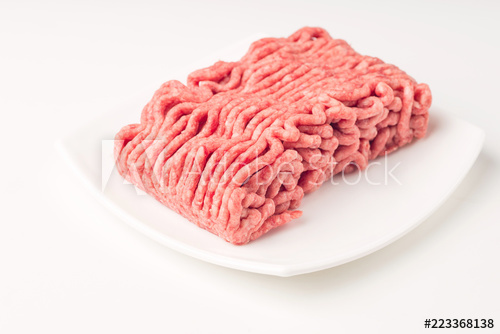ground_beef: (106, 22, 446, 222)
